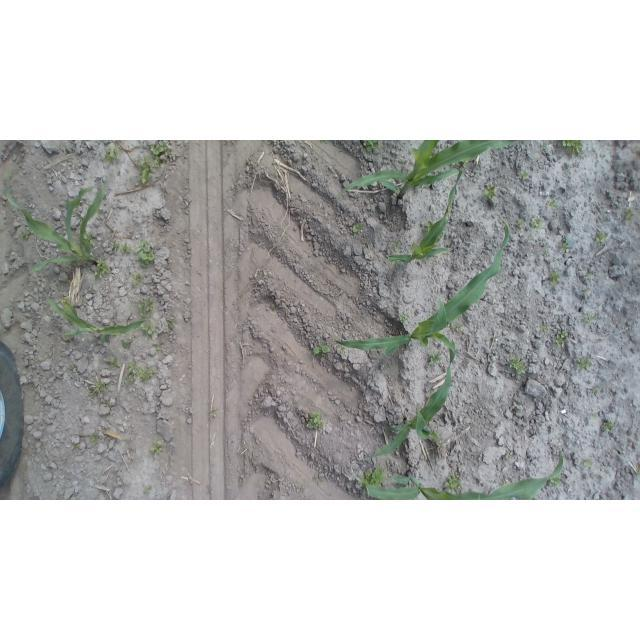Maize: (335, 220, 512, 367), (332, 141, 518, 202), (349, 450, 563, 500), (4, 179, 106, 275), (360, 364, 453, 460), (386, 165, 465, 264), (47, 297, 156, 344)
Weeds: (139, 141, 171, 184), (355, 466, 388, 495), (124, 361, 158, 385), (132, 239, 156, 269), (103, 140, 121, 165), (136, 296, 156, 317), (562, 140, 584, 157), (306, 411, 324, 430), (444, 475, 463, 493), (88, 381, 109, 397), (509, 356, 527, 374), (576, 356, 593, 373), (552, 330, 568, 348), (313, 342, 332, 357), (95, 259, 110, 278), (141, 320, 156, 336), (483, 184, 497, 200), (580, 311, 597, 324), (427, 351, 441, 365), (362, 140, 378, 152), (152, 439, 165, 453), (83, 231, 96, 245), (549, 270, 561, 285), (531, 217, 543, 232), (108, 356, 121, 369), (422, 220, 434, 233), (596, 232, 608, 245), (121, 336, 134, 348), (625, 207, 636, 221), (21, 228, 32, 240), (133, 273, 144, 284), (352, 223, 364, 233), (451, 322, 463, 332), (88, 434, 100, 444), (603, 421, 615, 431), (547, 199, 559, 209), (560, 239, 569, 252), (520, 168, 529, 181), (551, 477, 561, 488), (109, 241, 120, 251), (121, 243, 132, 253), (537, 324, 549, 333), (400, 313, 409, 324), (392, 240, 401, 249), (436, 232, 445, 241), (584, 459, 593, 468), (4, 172, 13, 181), (167, 319, 175, 329), (504, 452, 512, 461), (584, 272, 592, 281), (152, 344, 161, 352), (339, 345, 347, 354), (8, 244, 17, 252), (519, 218, 526, 228), (582, 287, 590, 295), (72, 443, 81, 450), (210, 409, 217, 418), (541, 140, 548, 148), (104, 401, 112, 407), (143, 486, 151, 492), (296, 486, 305, 491), (590, 413, 597, 419), (513, 407, 519, 414), (500, 212, 505, 220), (62, 299, 69, 304), (544, 249, 549, 256), (320, 140, 328, 144), (592, 388, 598, 393), (636, 149, 640, 155), (272, 303, 276, 309), (636, 472, 640, 477), (71, 366, 75, 370), (510, 221, 512, 224)
